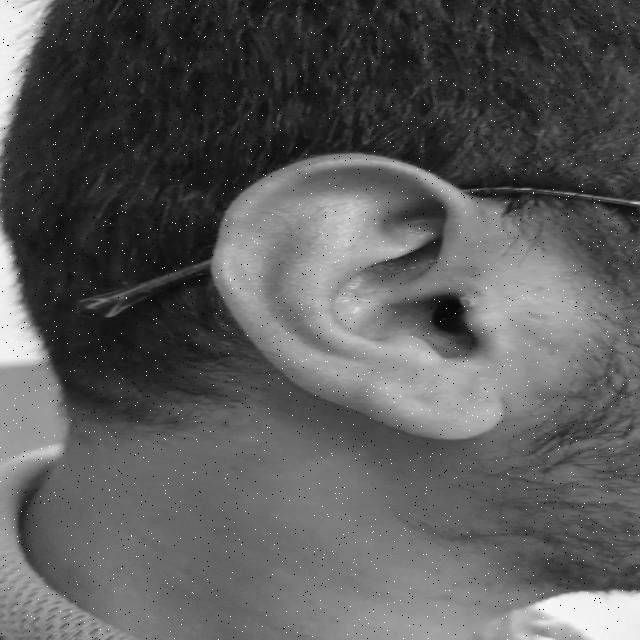ear: (212, 153, 501, 439)
